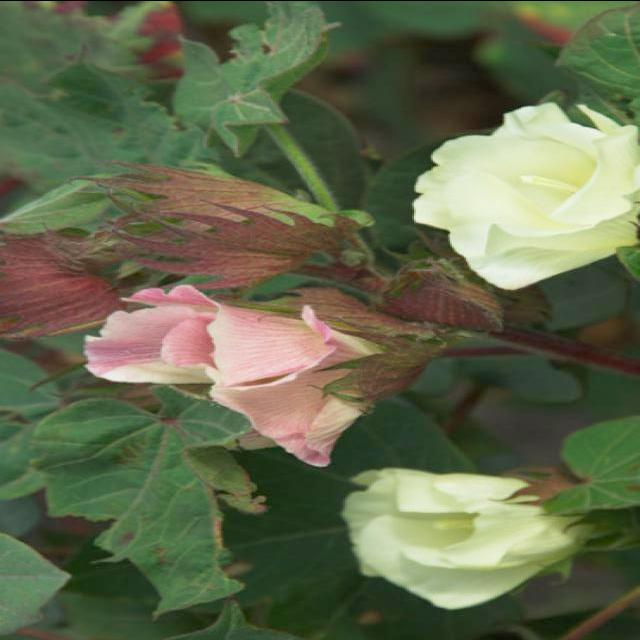Cotton Blossom: (82, 282, 424, 453), (407, 100, 640, 290), (344, 464, 626, 610)
Cotton Bud: (73, 149, 376, 285)
